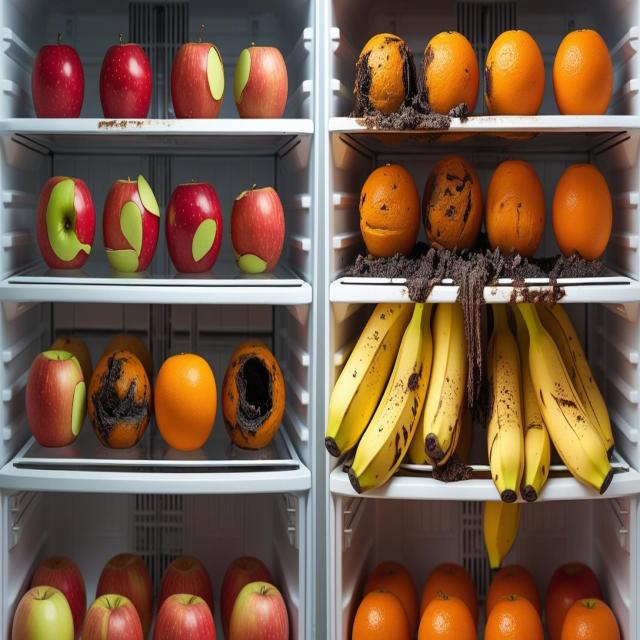apple: (26, 350, 86, 446), (36, 175, 95, 268), (103, 175, 159, 272), (165, 182, 222, 272), (96, 553, 153, 638), (230, 185, 284, 273), (30, 556, 86, 639), (31, 34, 84, 117), (234, 42, 288, 118), (171, 43, 224, 118), (100, 43, 151, 118), (227, 582, 289, 639), (12, 585, 74, 639), (158, 555, 213, 614), (153, 594, 216, 639), (81, 595, 143, 639)
banana: (326, 303, 467, 492), (487, 302, 613, 503)
orange: (222, 341, 285, 449), (88, 350, 151, 448), (154, 353, 217, 450), (485, 160, 545, 257), (552, 164, 612, 259), (423, 155, 483, 248), (359, 165, 420, 256), (553, 30, 613, 114), (485, 30, 544, 115), (419, 32, 479, 114), (363, 561, 419, 639), (545, 562, 601, 639), (421, 562, 477, 622), (352, 590, 410, 639), (418, 591, 477, 639), (484, 594, 544, 639), (561, 598, 620, 639)
